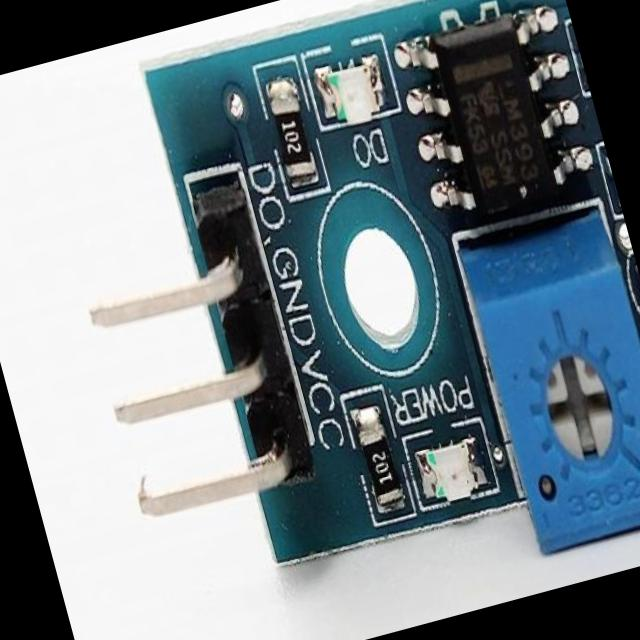IC: (405, 0, 585, 225)
LED: (418, 438, 488, 512), (318, 60, 385, 132)
connector: (55, 192, 319, 536)
potentiometer: (455, 205, 640, 564)
resistor: (350, 410, 412, 518), (264, 84, 316, 179)
